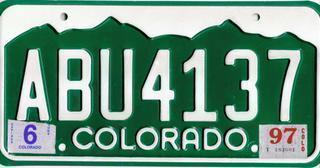placa de veiculo: (3, 6, 308, 167)
